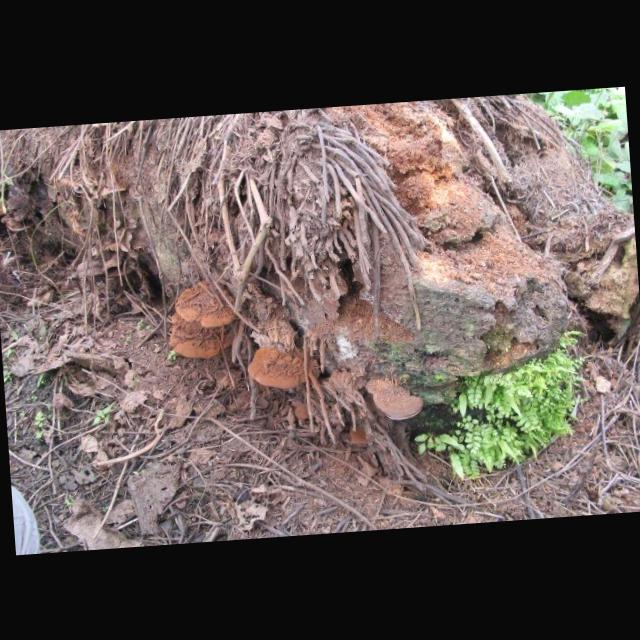ganoderma: (245, 341, 326, 393), (167, 308, 239, 363), (173, 279, 242, 331), (364, 374, 428, 425), (348, 420, 375, 448), (295, 401, 313, 423)
